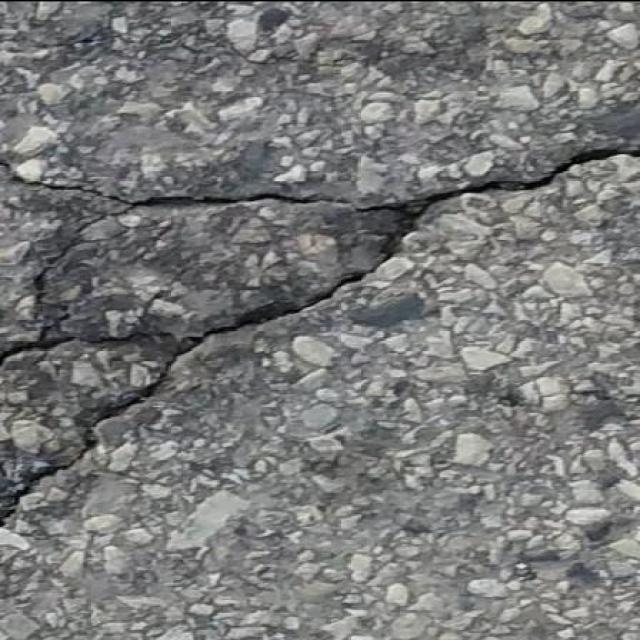Crack: (75, 272, 368, 454), (0, 184, 238, 369), (370, 144, 639, 268), (0, 455, 74, 529), (0, 156, 23, 184)
